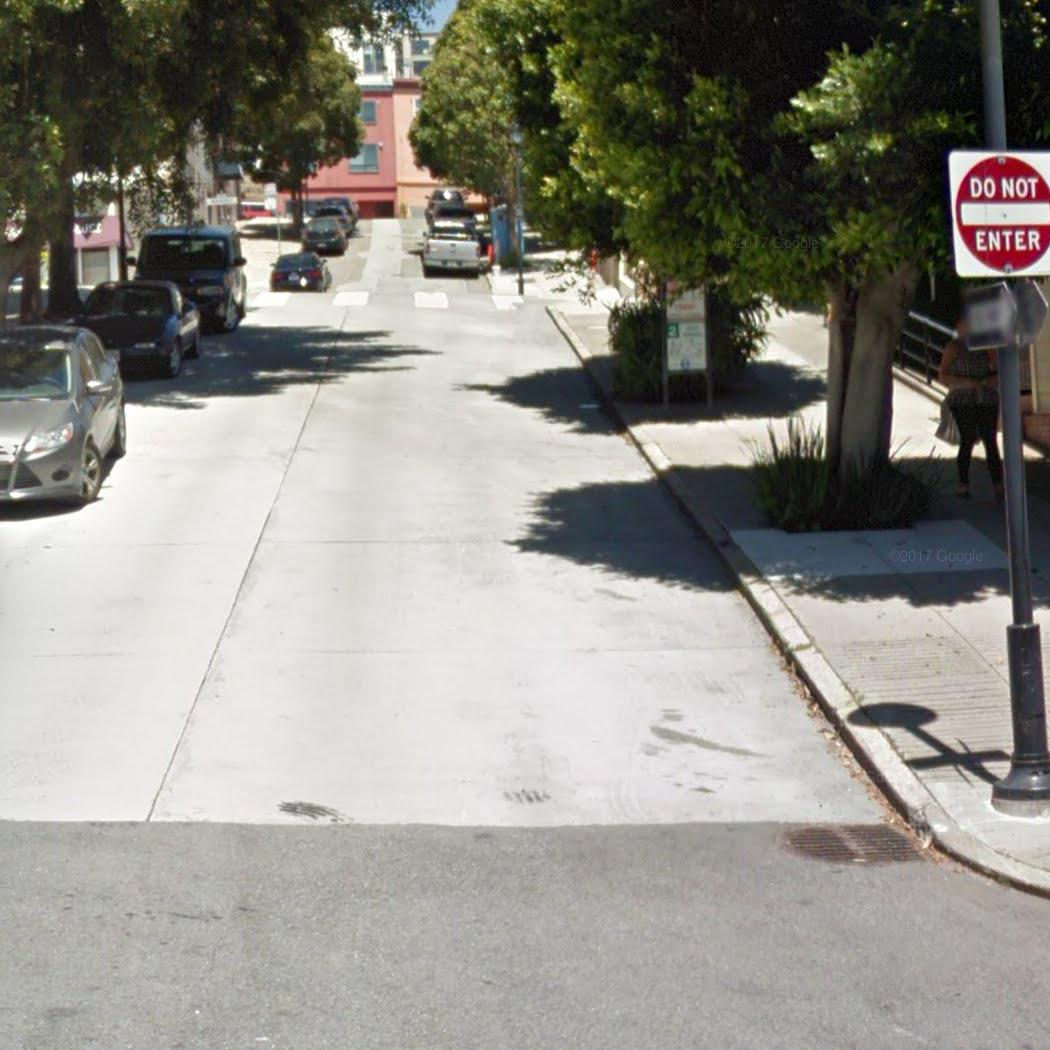2 Hour Parking: (662, 322, 711, 372)
No Parking: (662, 276, 709, 323)
